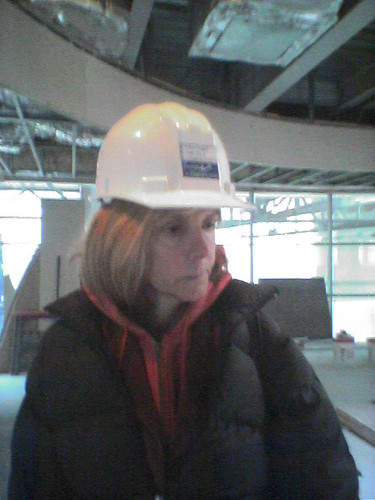person hardhat: (39, 94, 321, 500)
